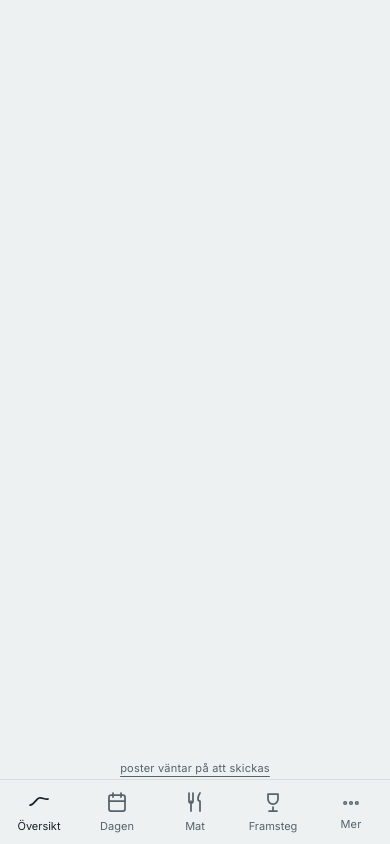
the Mer sheet › offers Admin to an admin
Step 1. Click the button with test id "nav-more" → (351, 812), box [312, 780, 389, 843]
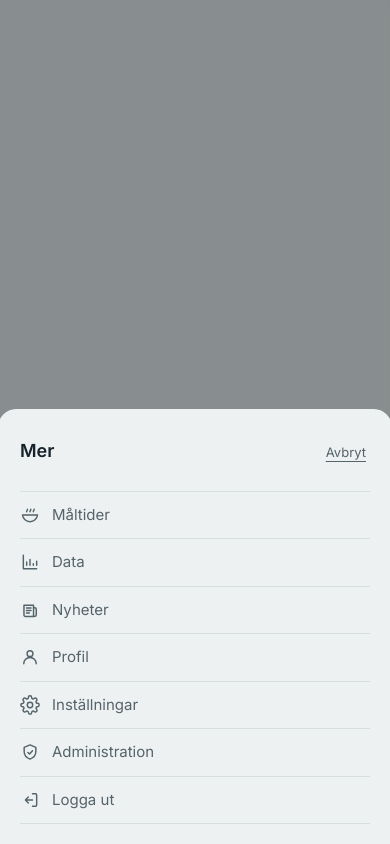
expect the link with test id "more-admin" reads "Administration": met, box [20, 742, 154, 762]
